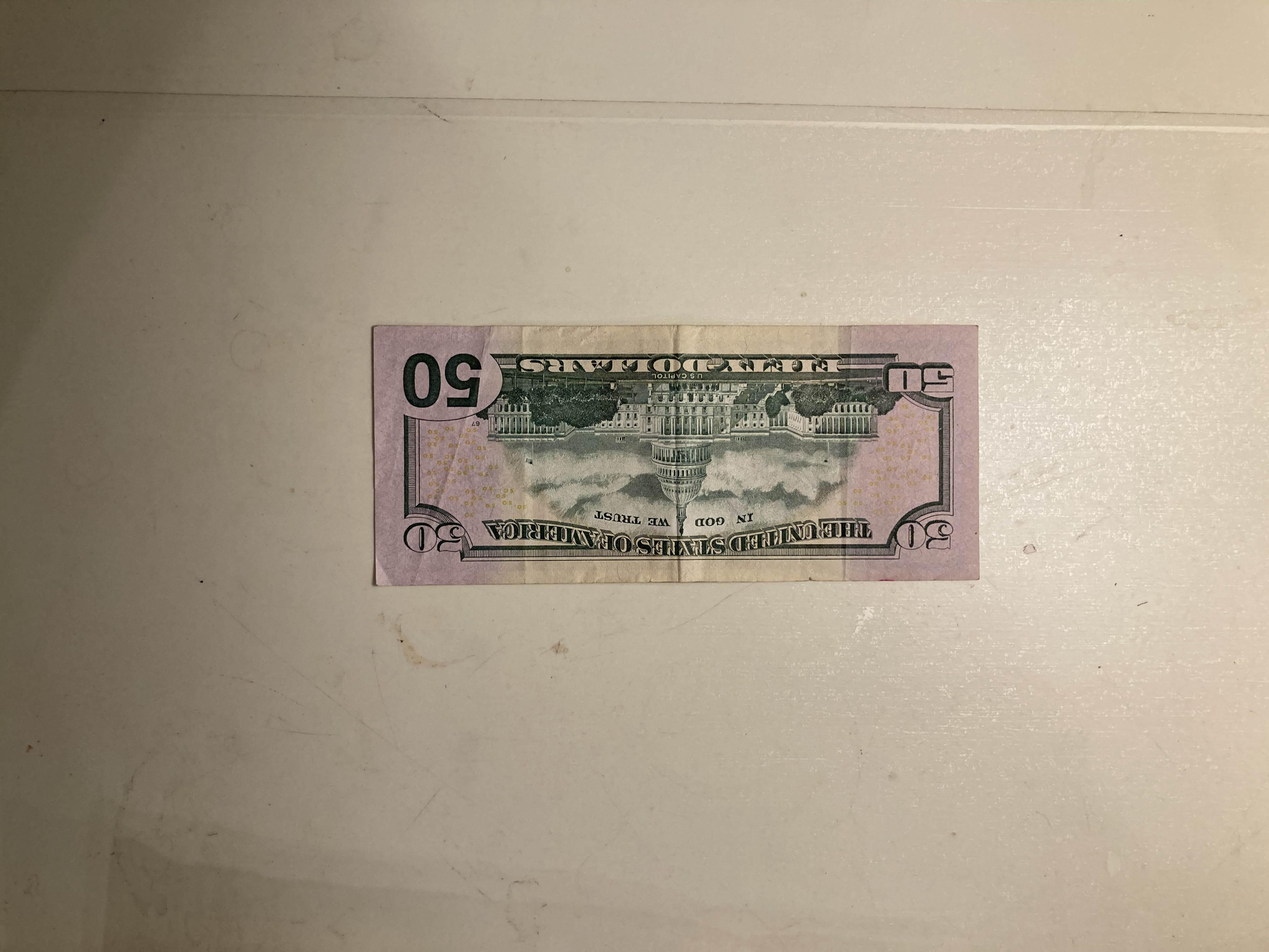fifty-back: (371, 322, 983, 588)
